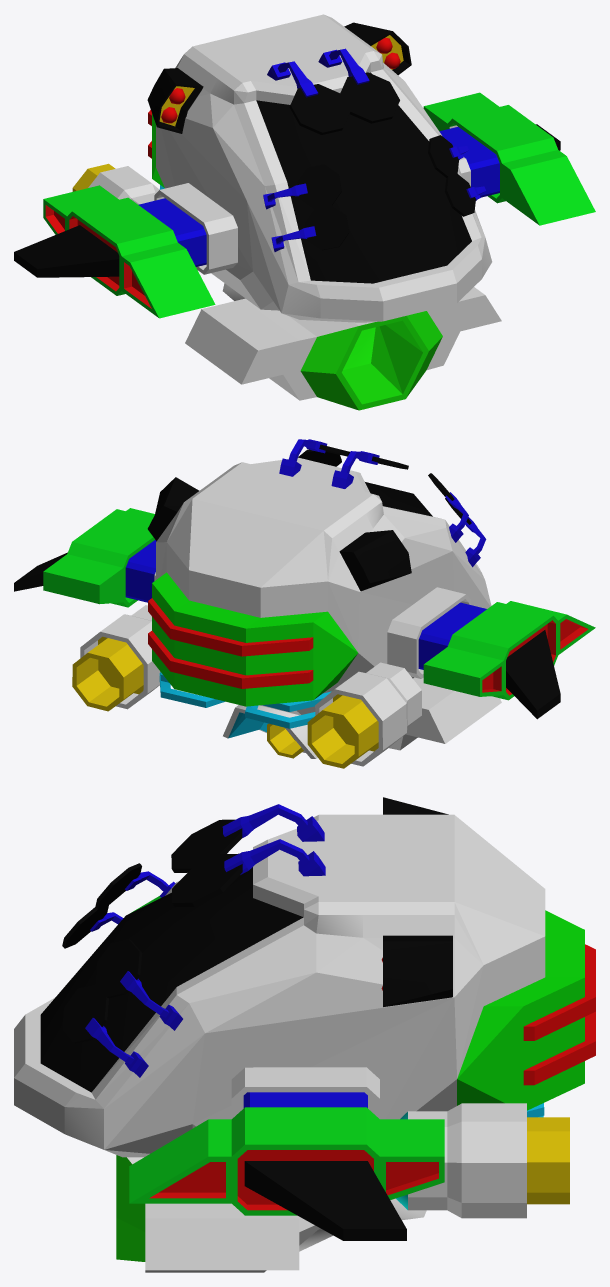
Rendered from mayinci_drone.FBX.
3 views of the same model, one above another, from view 1: azimuth 30°, elevation 25°; view 2: azimuth 150°, elevation 25°; view 3: azimuth 270°, elevation 25° (orthographic). The views are drawn at different scales.
Parts seen in each view (by area): view 1: mayıncı; view 2: mayıncı; view 3: mayıncı.
Part boxes in pixels (box(x1,y1,x2,y2)): mayıncı: box(14, 14, 595, 410); mayıncı: box(14, 439, 595, 768); mayıncı: box(14, 797, 595, 1272).
Bounding box in the file's own units: 303 × 170 × 215.
